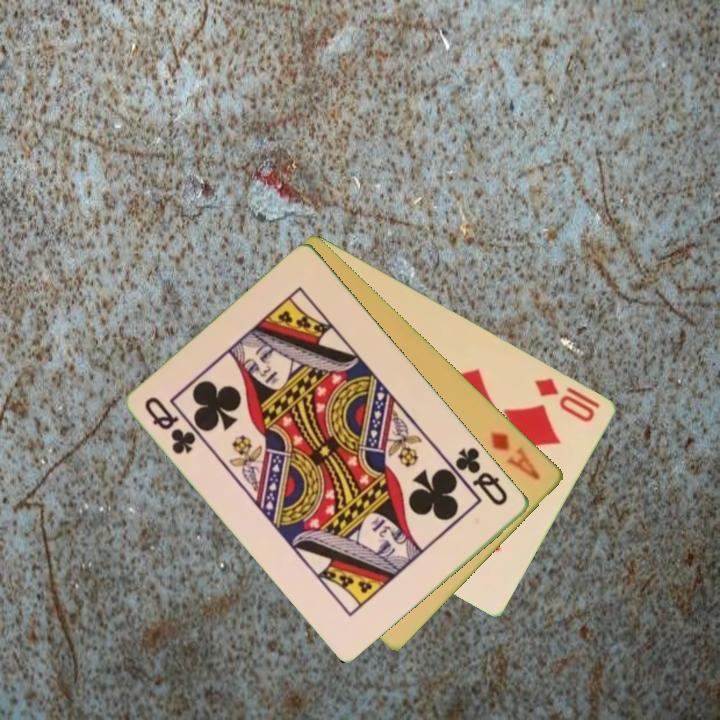10d: (531, 374, 604, 425)
Ad: (487, 427, 545, 483)
Qc: (140, 393, 200, 458), (452, 443, 511, 509)
